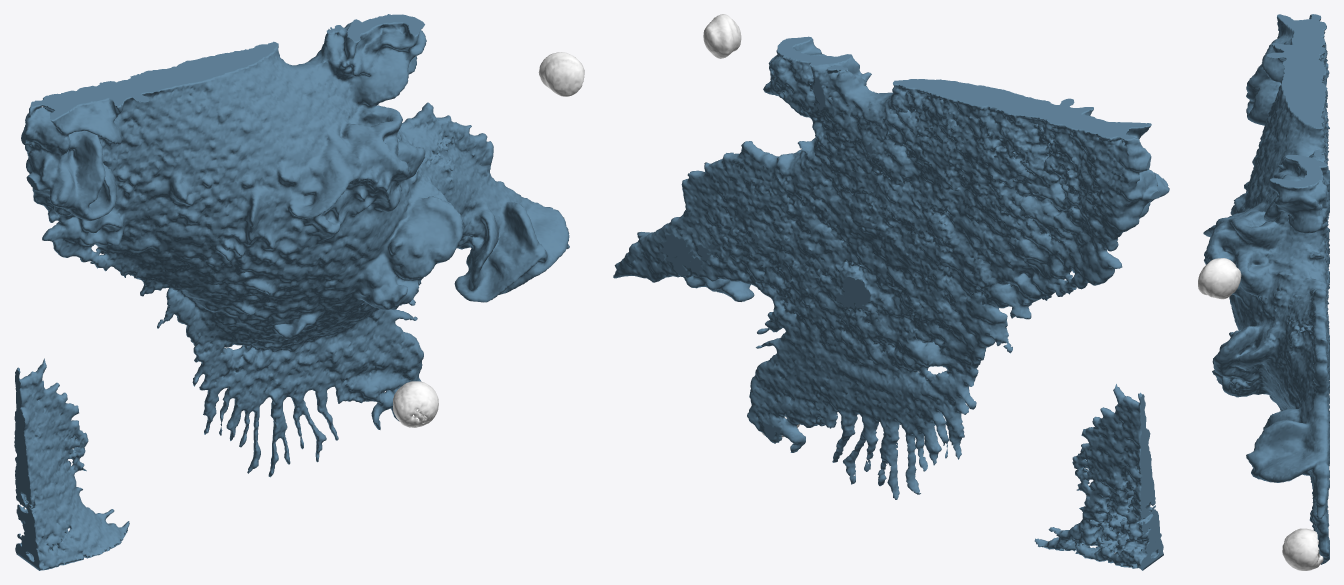
3 views of the same model, side by side, from view 1: azimuth 30°, elevation 25°; view 2: azimuth 150°, elevation 25°; view 3: azimuth 270°, elevation 25° (orthographic). The views are drawn at different scales.
Parts seen in each view (by area): view 1: surface (×2); view 2: surface (×2); view 3: surface (×2).
Part boxes in pixels (x1,y1,x2,y2): surface (×2): [14, 14, 584, 570]; surface (×2): [613, 14, 1169, 570]; surface (×2): [1198, 14, 1329, 570].
Bounding box in the file's own units: 563 × 436 × 124.
